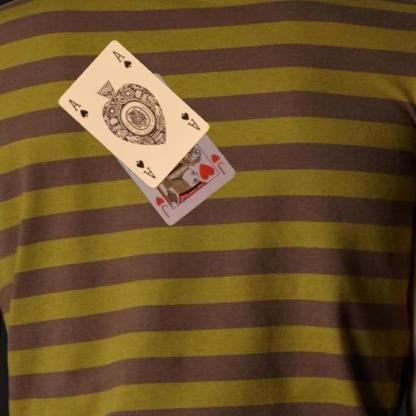As: (66, 97, 89, 119), (178, 110, 201, 132)
Jh: (208, 152, 226, 176)
